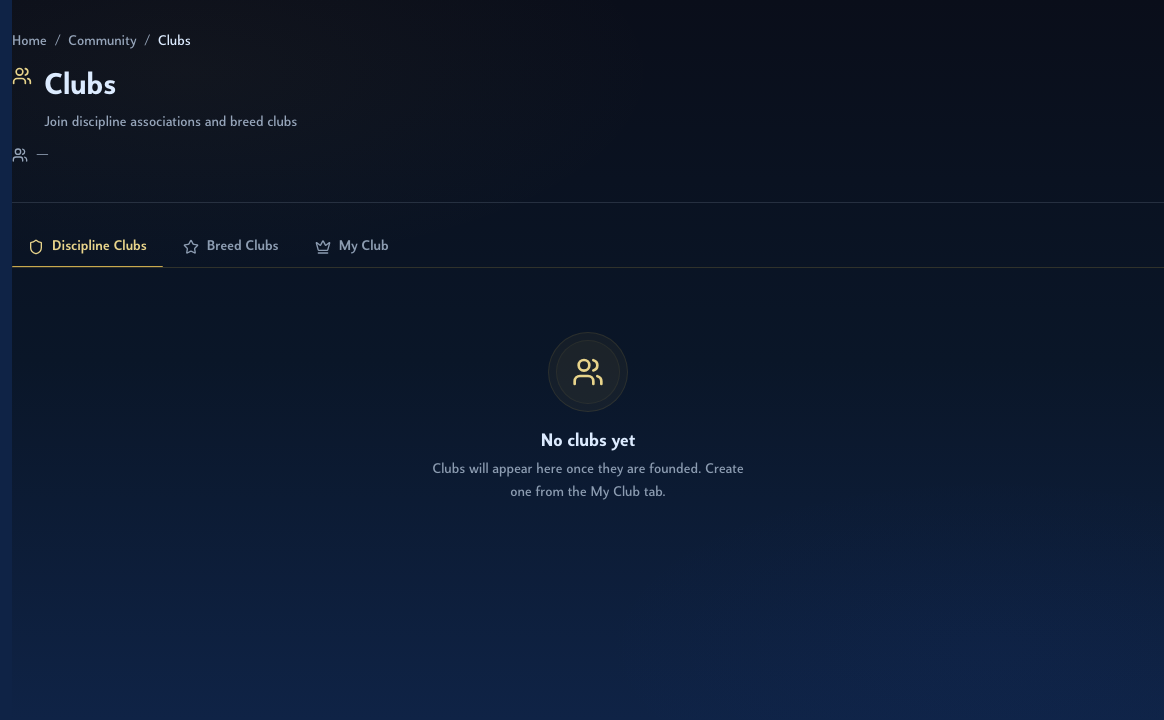
it: MyClubTab fetch states (Equoria-lhkcl) › a failed all-clubs fetch shows an error with retry in the leaderboard, not "No clubs yet"
The width and height of the screenshot is (1164, 720).
Click the tab with test id "tab-my-club".
click(352, 247)  # box [299,227,405,267]
(page scrolled)
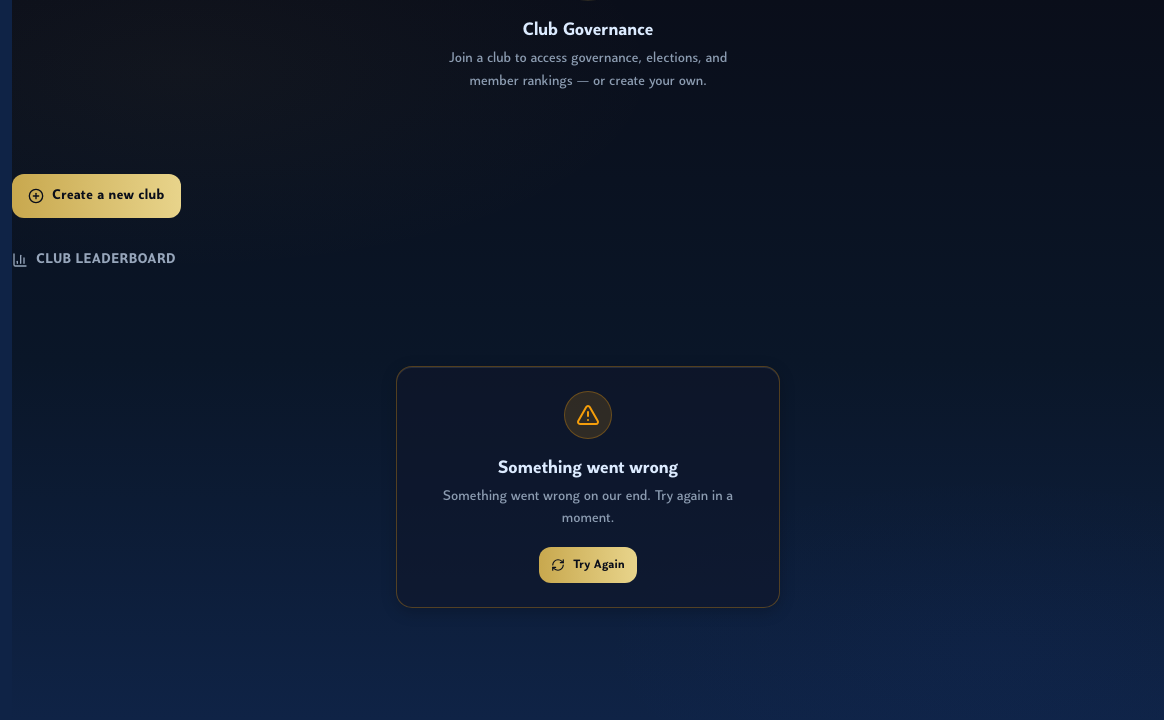
Result: the message shows "Something went wrong" at [498,458,678,478]
Result: the button "Try Again" is shown at [539,547,637,583]
Result: the heading "No clubs yet" is gone
